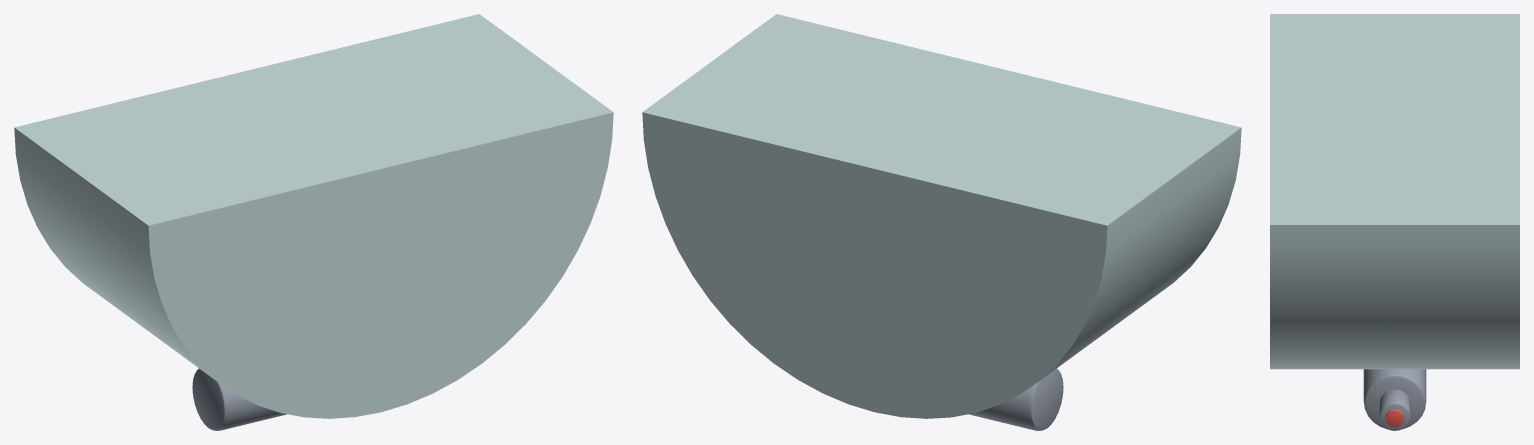
Rendered from snell_apparatus.glb.
3 views of the same model, side by side, from view 1: azimuth 30°, elevation 25°; view 2: azimuth 150°, elevation 25°; view 3: azimuth 270°, elevation 25° (orthographic). The views are drawn at different scales.
Parts seen in each view (by area): view 1: Semi_Glass_Block, Laser_Pen_Body; view 2: Semi_Glass_Block, Laser_Pen_Body; view 3: Semi_Glass_Block, Laser_Pen_Body, Laser_Pen_Nose, Laser_Lens.
Boxes of the visible parts, bbox=[...] form: Semi_Glass_Block: bbox=[14, 14, 613, 418]; Laser_Pen_Body: bbox=[192, 368, 286, 430]; Semi_Glass_Block: bbox=[642, 14, 1241, 418]; Laser_Pen_Body: bbox=[969, 368, 1063, 430]; Semi_Glass_Block: bbox=[1270, 14, 1519, 369]; Laser_Pen_Body: bbox=[1363, 369, 1426, 429]; Laser_Pen_Nose: bbox=[1379, 389, 1410, 430]; Laser_Lens: bbox=[1385, 409, 1404, 426].
Size of the model in its own units: 2.4 by 1.4 by 1.2.
